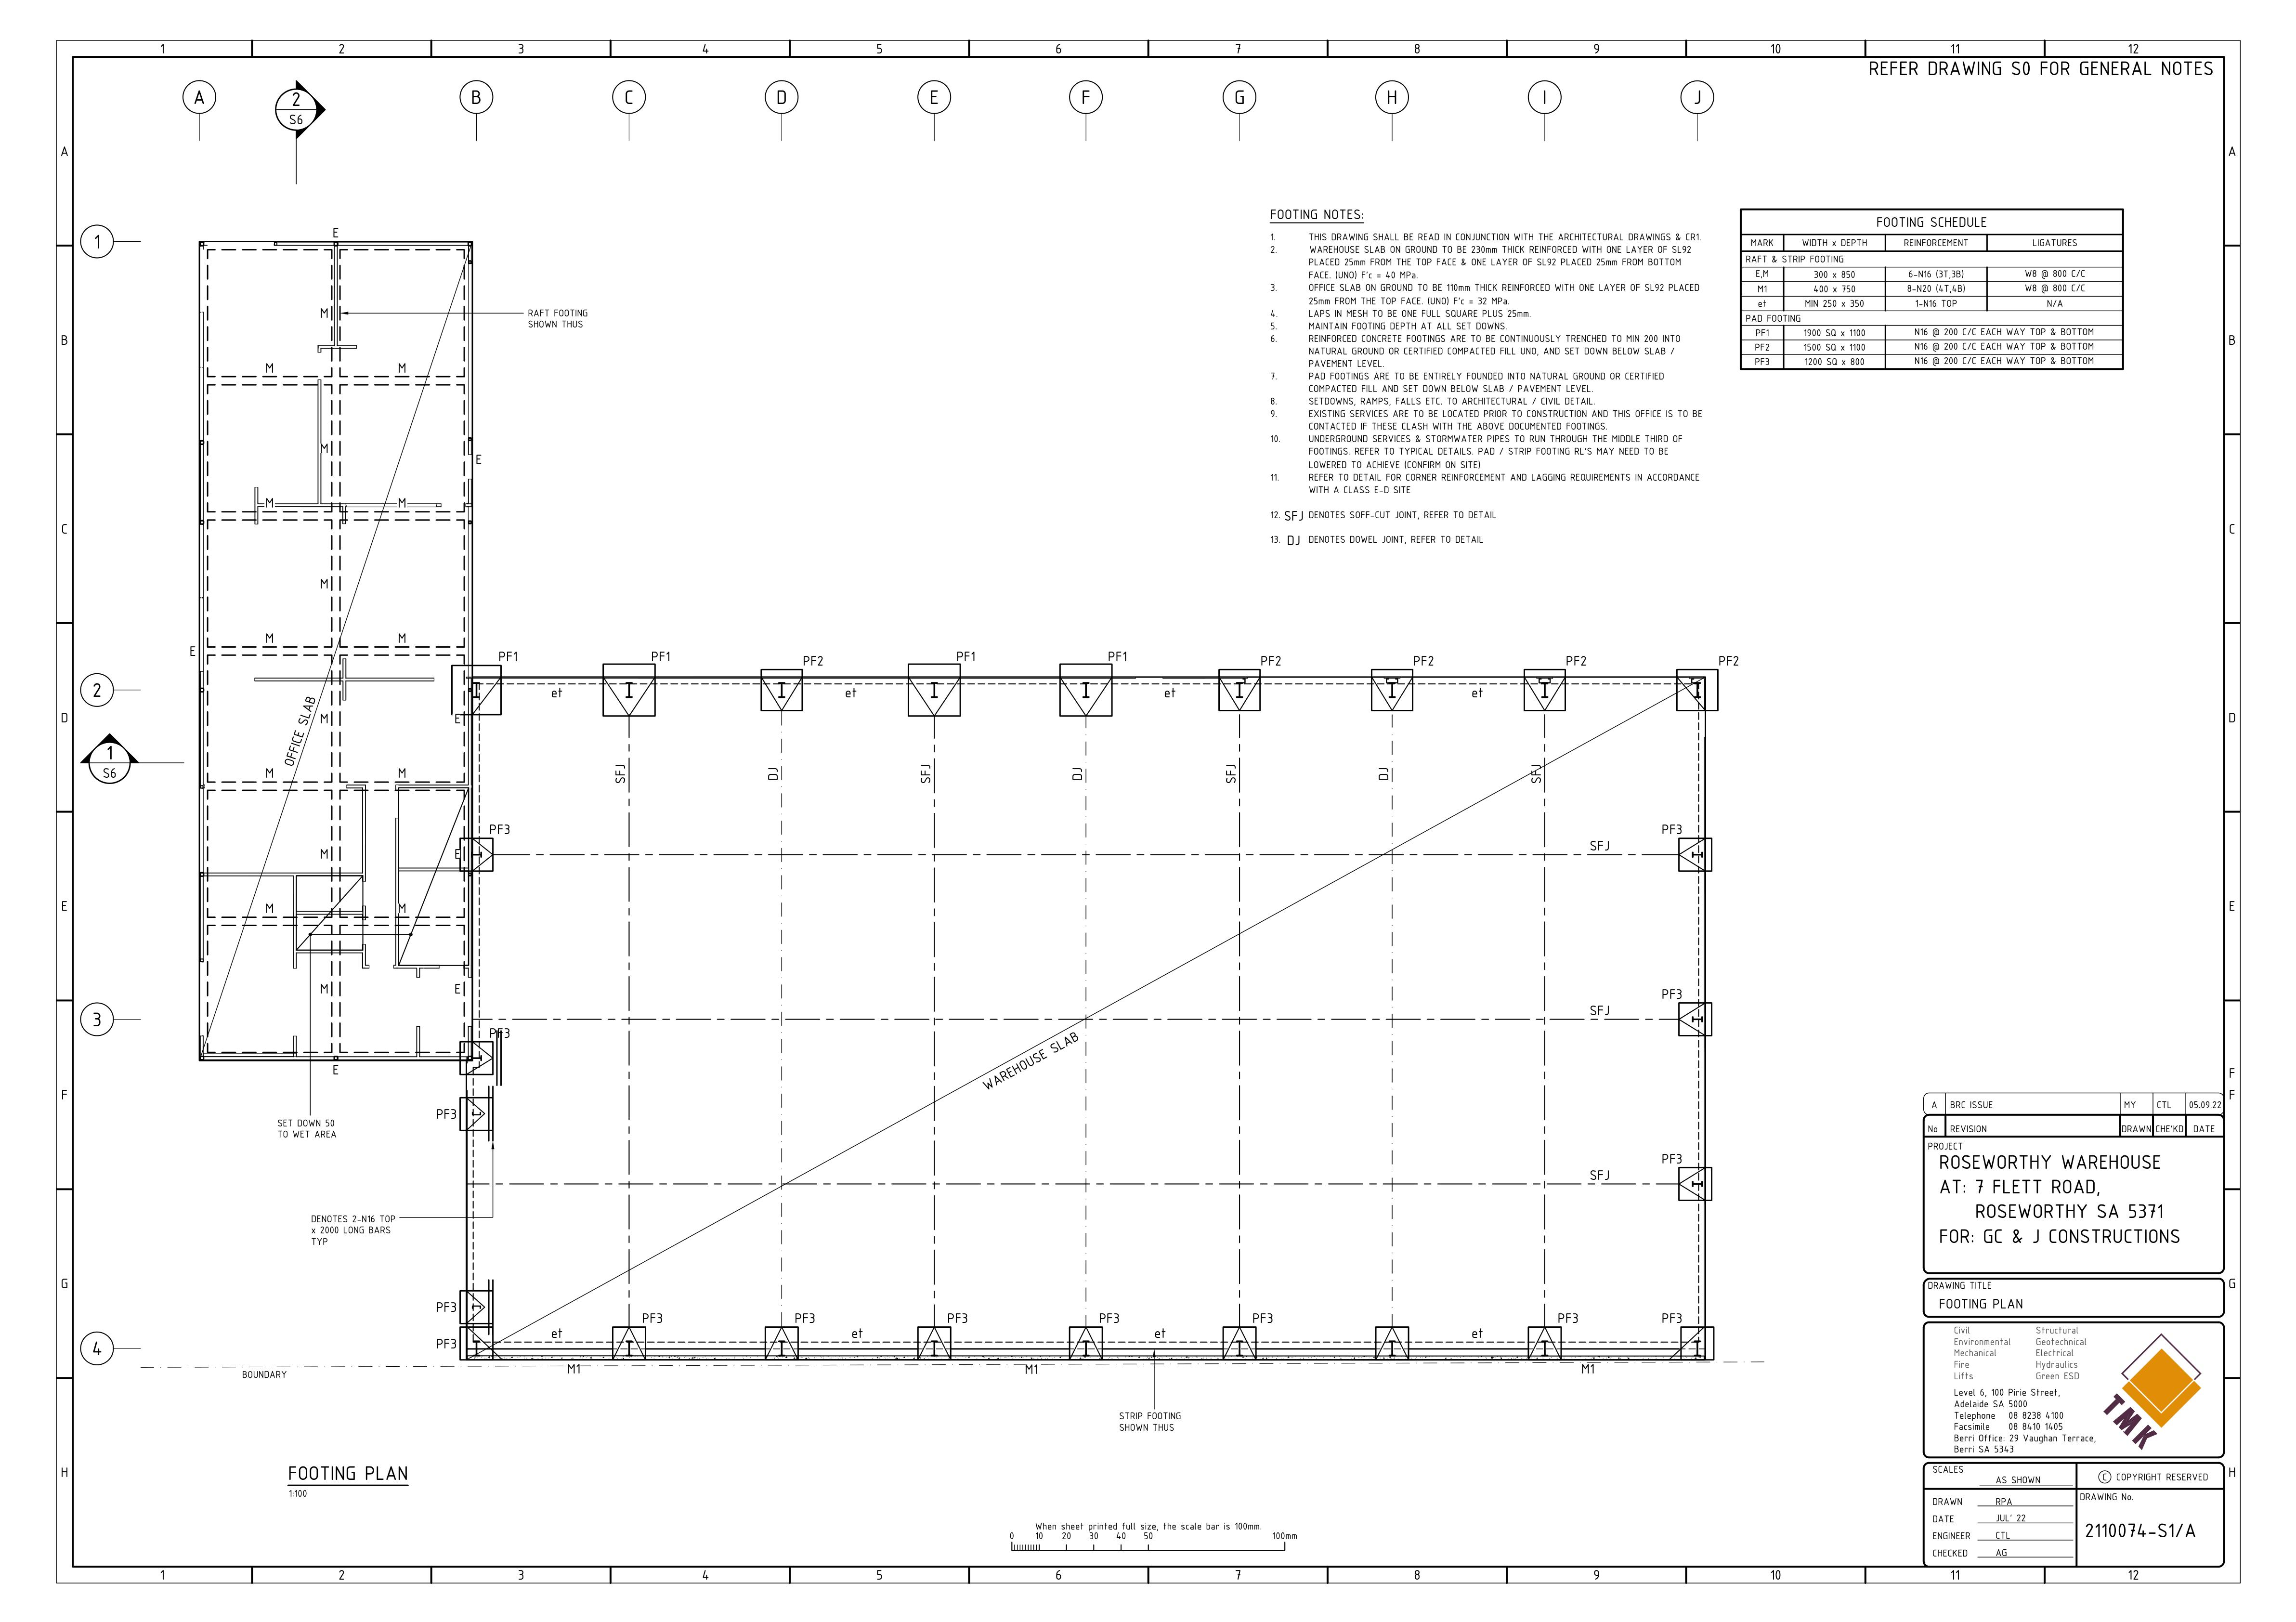DJ: (1373, 760, 1390, 785), (764, 765, 779, 785), (1073, 764, 1087, 785)
E: (332, 1062, 349, 1081), (448, 707, 463, 727), (472, 444, 486, 465), (446, 981, 462, 999), (186, 641, 200, 660), (330, 223, 344, 240), (453, 844, 463, 862)
M: (316, 839, 334, 864), (260, 627, 281, 646), (258, 765, 281, 783), (391, 627, 411, 646), (263, 493, 281, 514), (388, 767, 409, 785), (395, 358, 414, 376), (314, 302, 330, 323), (263, 901, 279, 922), (263, 356, 281, 372), (318, 711, 334, 728), (316, 980, 332, 995), (395, 899, 409, 916), (395, 500, 411, 513), (318, 572, 330, 588)
M1: (1018, 1360, 1048, 1383), (558, 1366, 592, 1383), (1582, 1357, 1603, 1383)
PF1: (490, 646, 527, 669), (948, 642, 983, 665), (1102, 644, 1132, 667), (646, 642, 674, 665)
PF2: (1253, 653, 1292, 676), (1715, 651, 1748, 674), (795, 651, 834, 671), (1411, 651, 1439, 671), (1564, 651, 1585, 671)
PF3: (1662, 1145, 1696, 1169), (1243, 1304, 1280, 1325), (1661, 980, 1689, 1006), (1655, 1306, 1689, 1327), (635, 1310, 674, 1325), (1555, 1306, 1585, 1325), (1095, 1308, 1130, 1324), (792, 1311, 827, 1327), (946, 1306, 974, 1325), (430, 1106, 458, 1125), (1661, 818, 1687, 837), (488, 818, 514, 837), (432, 1297, 460, 1315), (432, 1336, 462, 1352), (488, 1025, 513, 1039)
SFJ: (1587, 830, 1617, 862), (1218, 755, 1243, 788), (1583, 1002, 1615, 1023), (1525, 755, 1545, 788), (606, 760, 628, 786), (1592, 1169, 1618, 1188), (918, 760, 937, 785)
